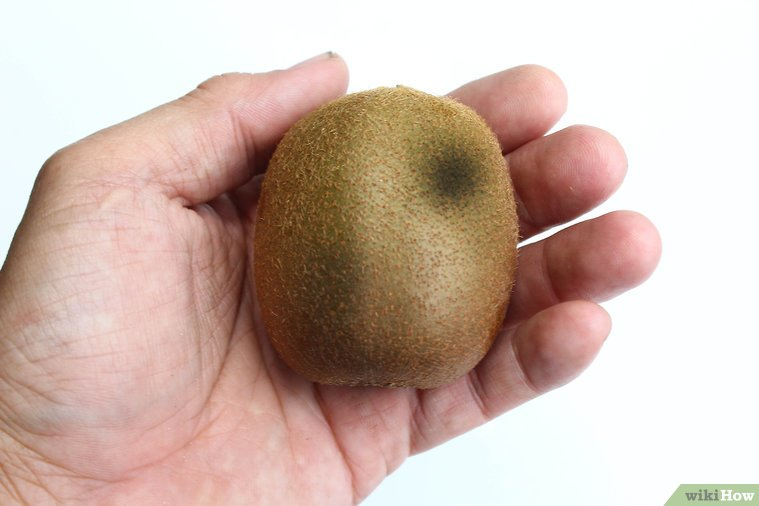damaged_kiwi: (254, 87, 516, 391)
